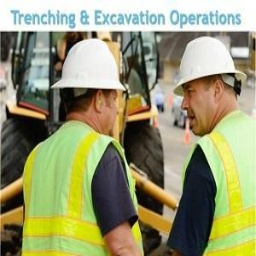helmet: (49, 41, 136, 102), (171, 41, 252, 93)
person: (20, 38, 154, 242), (161, 41, 256, 256)
vest: (17, 117, 149, 251), (174, 113, 256, 255)
